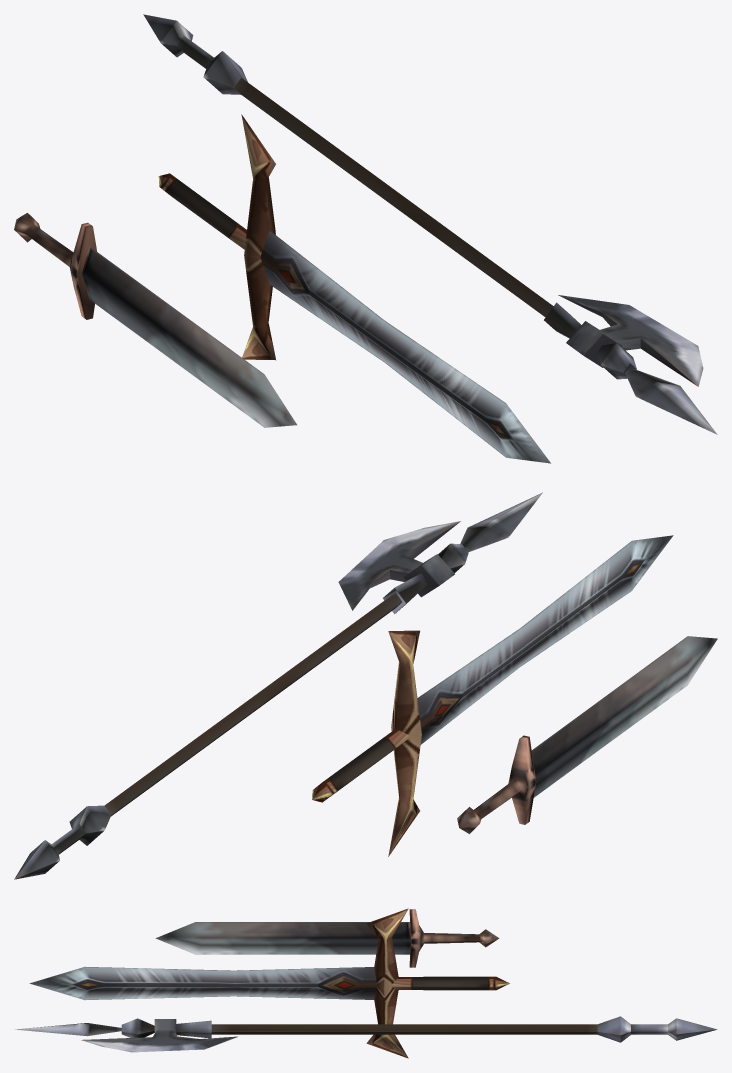
File: 2_Misc_WuQi_02.FBX
The picture shows the model from 3 angles, top to bottom: view 1: azimuth 30°, elevation 25°; view 2: azimuth 150°, elevation 25°; view 3: azimuth 270°, elevation 25°; orthographic projection. The views are drawn at different scales.
Parts seen in each view (by area): view 1: 2_Misc_WuQi_02_02, 2_Misc_WuQi_02_03, 2_Misc_WuQi_02_01; view 2: 2_Misc_WuQi_02_02, 2_Misc_WuQi_02_03, 2_Misc_WuQi_02_01; view 3: 2_Misc_WuQi_02_02, 2_Misc_WuQi_02_03, 2_Misc_WuQi_02_01.
Boxes of the visible parts, x1,y1,x2,y2 form: 2_Misc_WuQi_02_02: [158, 114, 550, 463]; 2_Misc_WuQi_02_03: [143, 14, 717, 434]; 2_Misc_WuQi_02_01: [14, 213, 296, 427]; 2_Misc_WuQi_02_02: [312, 535, 673, 856]; 2_Misc_WuQi_02_03: [14, 492, 542, 879]; 2_Misc_WuQi_02_01: [457, 636, 717, 833]; 2_Misc_WuQi_02_02: [29, 908, 509, 1058]; 2_Misc_WuQi_02_03: [15, 1016, 717, 1052]; 2_Misc_WuQi_02_01: [155, 909, 499, 967].
Bounding box in the file's own units: 127 × 75.59 × 320.
1 material, 1 textured.
